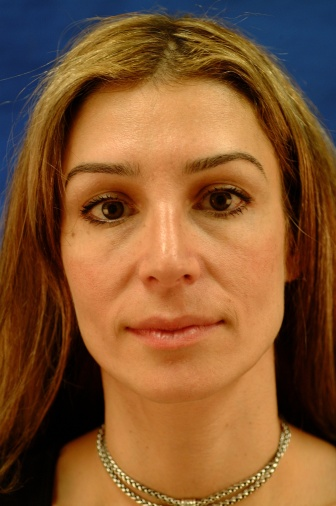Forehead: (50, 82, 283, 183)
